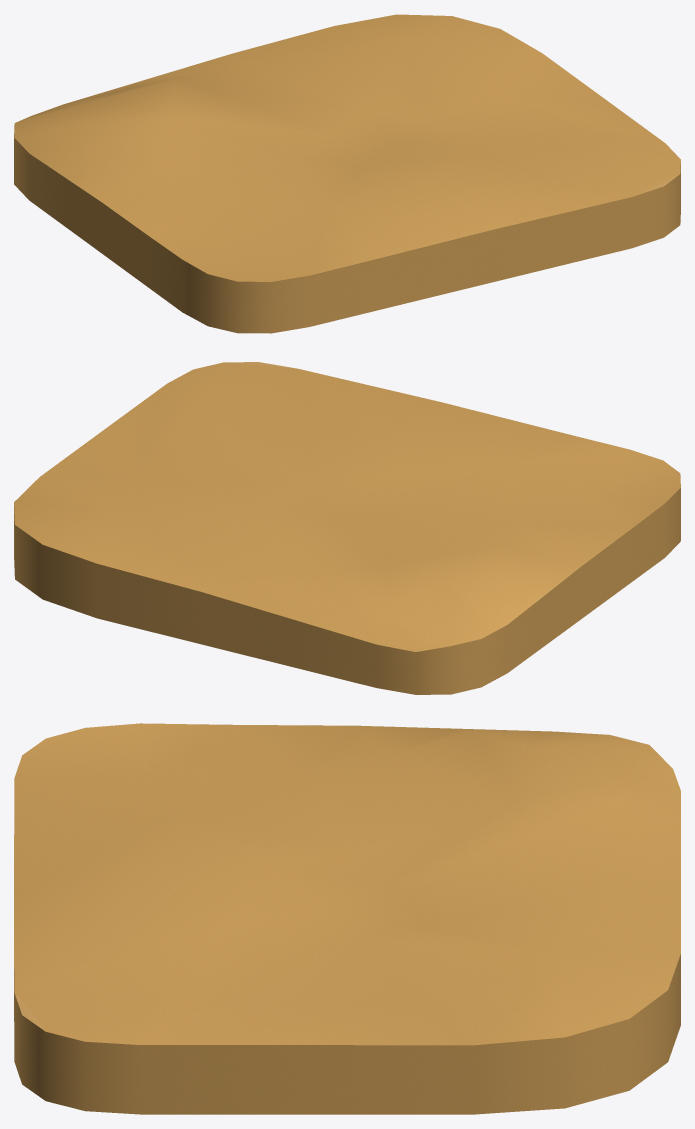
The model's file is nen.fbx.
3 renders of one model, top to bottom at view 1: azimuth 30°, elevation 25°; view 2: azimuth 150°, elevation 25°; view 3: azimuth 270°, elevation 25°, orthographic. The views are drawn at different scales.
Parts seen in each view (by area): view 1: SM_GroundPlane; view 2: SM_GroundPlane; view 3: SM_GroundPlane.
Part boxes in pixels (<box>): SM_GroundPlane: <box>14,14,680,333</box>; SM_GroundPlane: <box>14,362,680,694</box>; SM_GroundPlane: <box>14,723,680,1114</box>.
Bounding box in the file's own units: 20018 × 2785 × 17670.
